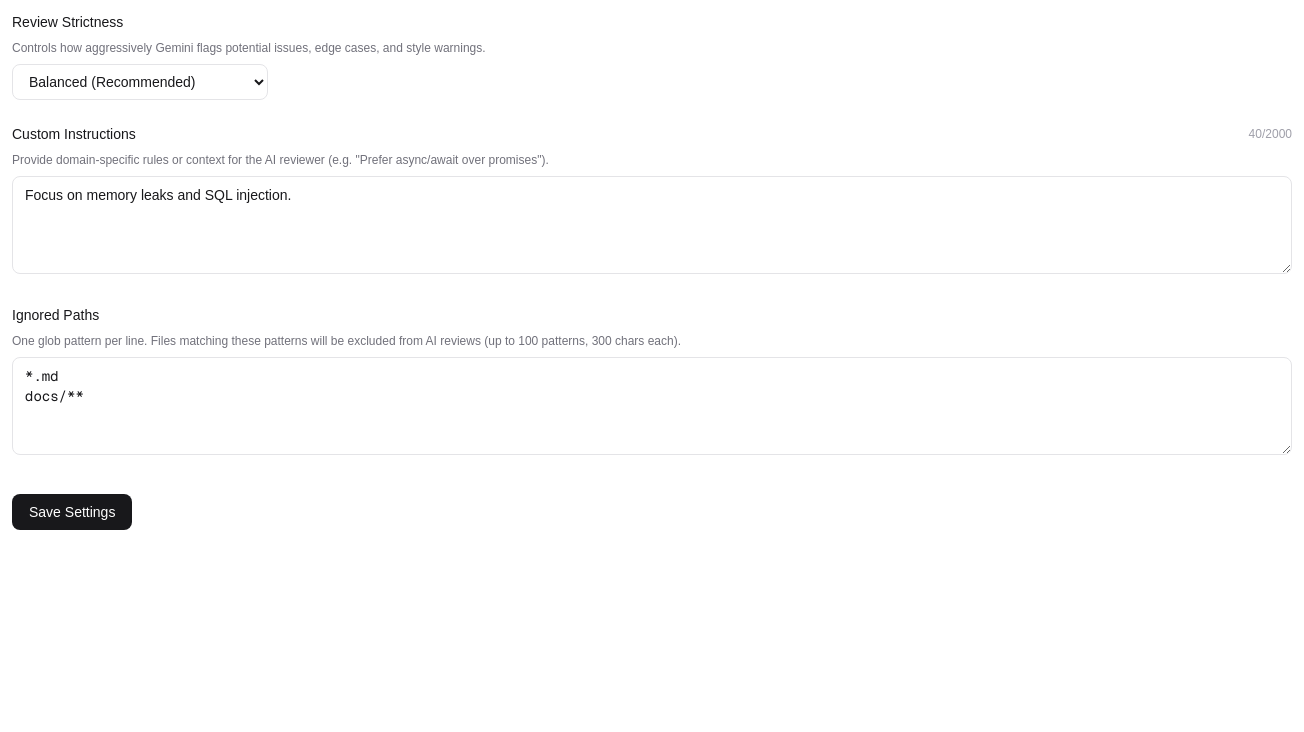
Test case: SettingsForm › handles generic 500 server error cleanly without raw DB errors
Click the button "Save Settings" at (72, 512), box x1=12 y1=494 x2=132 y2=530
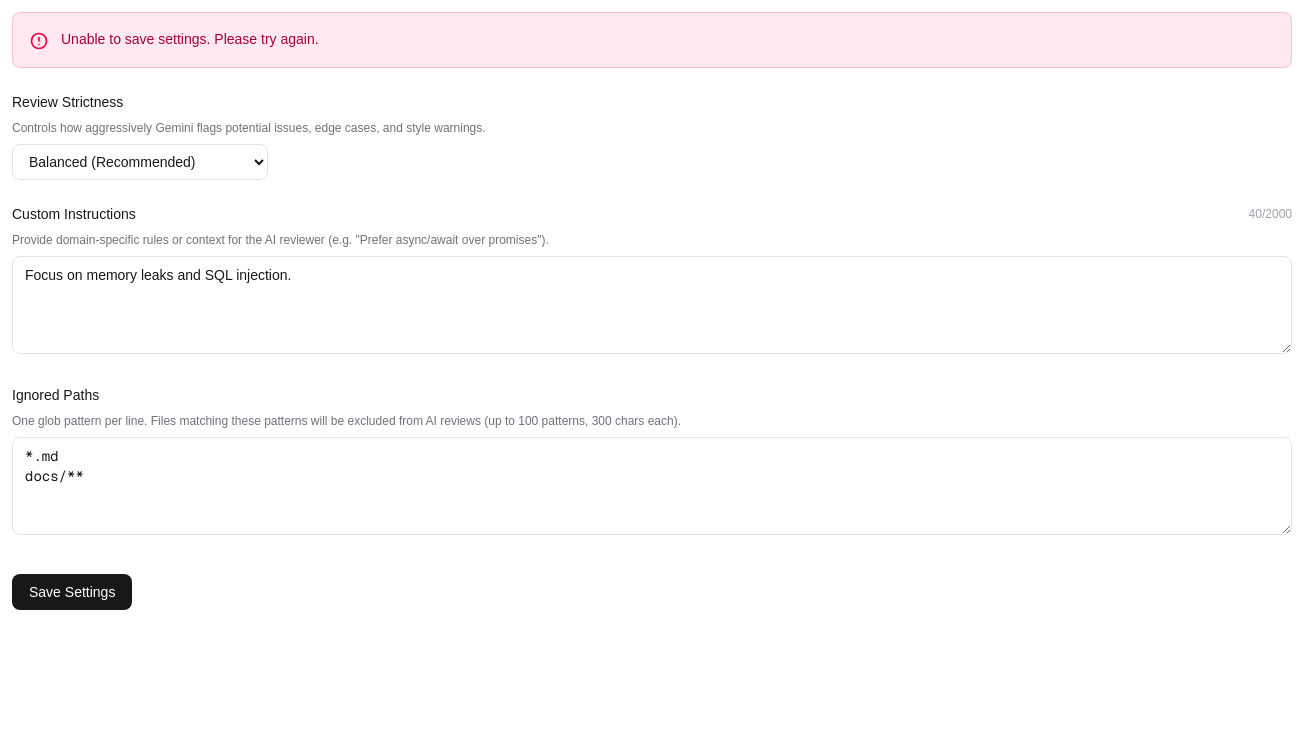
expect the text "Unable to save settings. Please try again." is shown: met, box x1=61 y1=29 x2=319 y2=49
